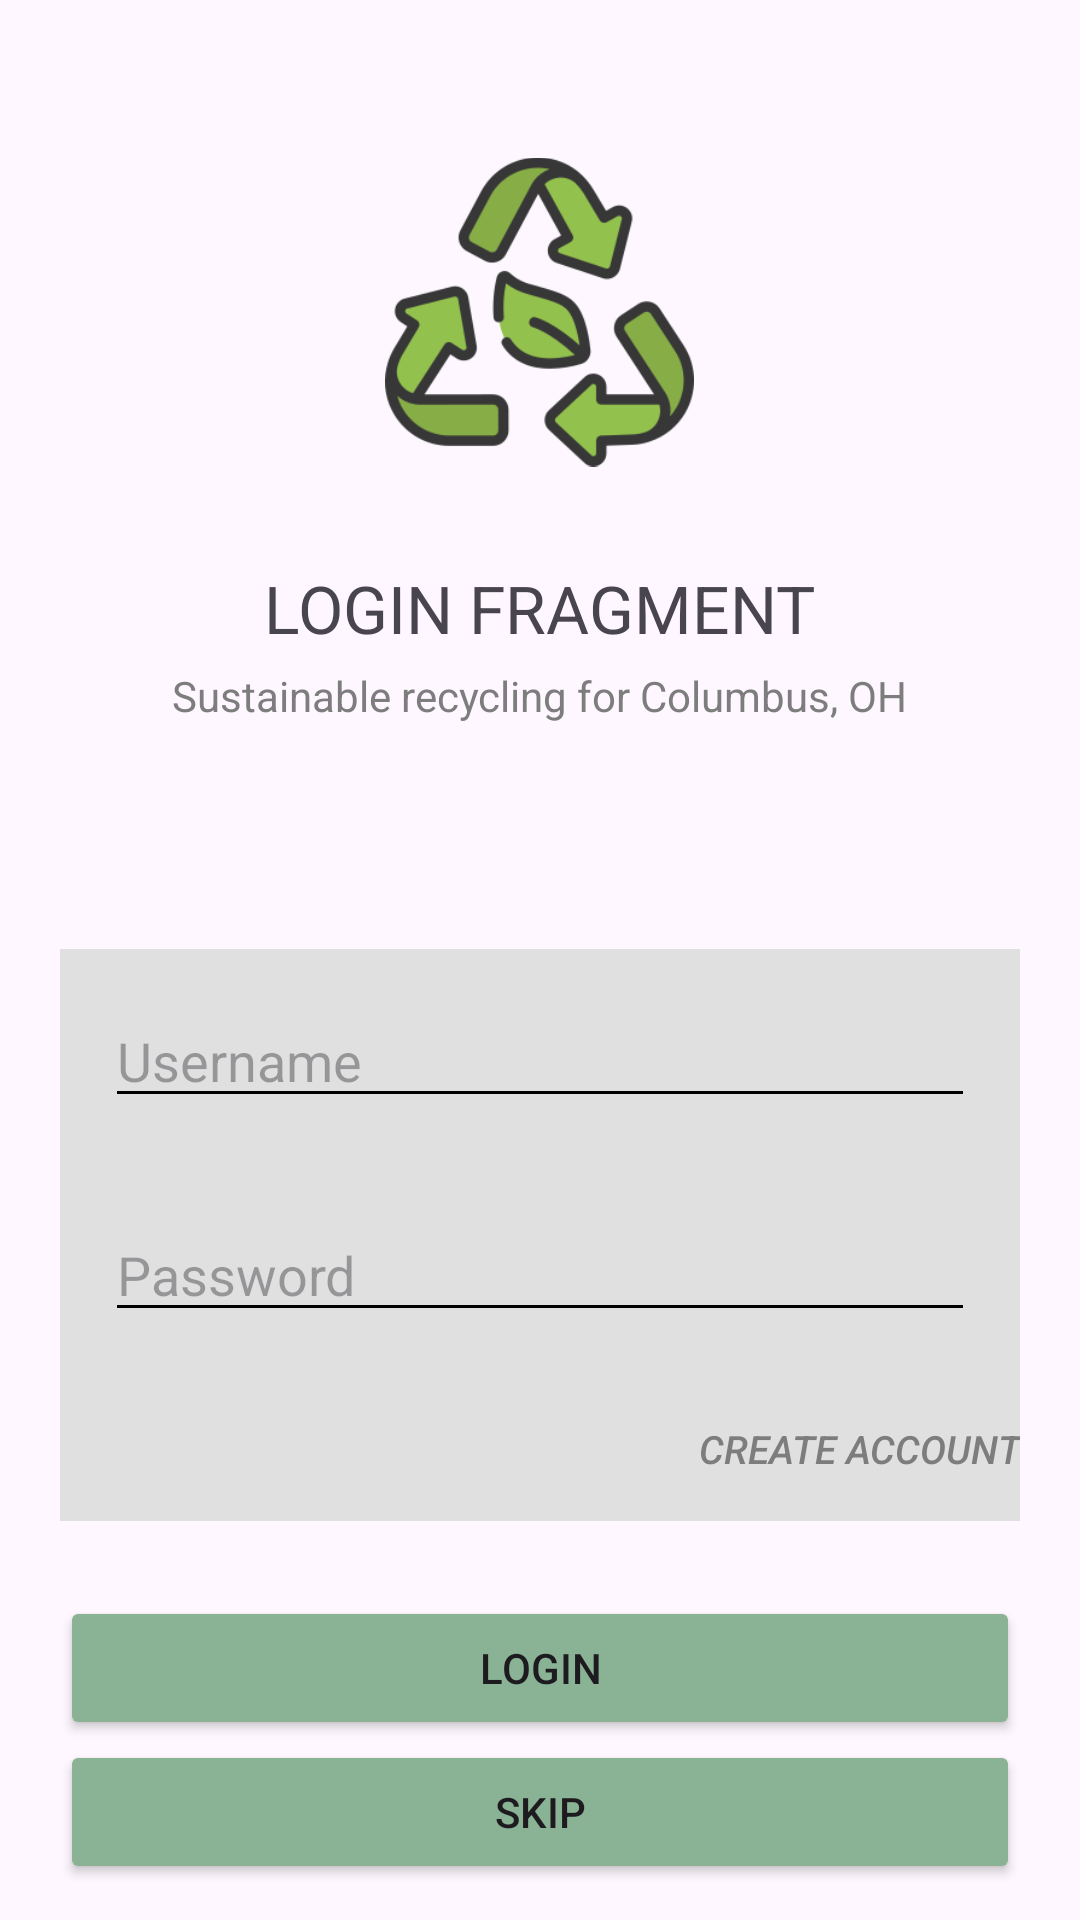

Where icons sit on this 1080w x 1920h app screen, as (x1, y1, x2, y2):
recycle: (385, 158, 694, 467)
